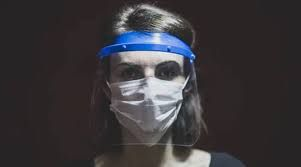with-mask: (94, 17, 203, 150)
